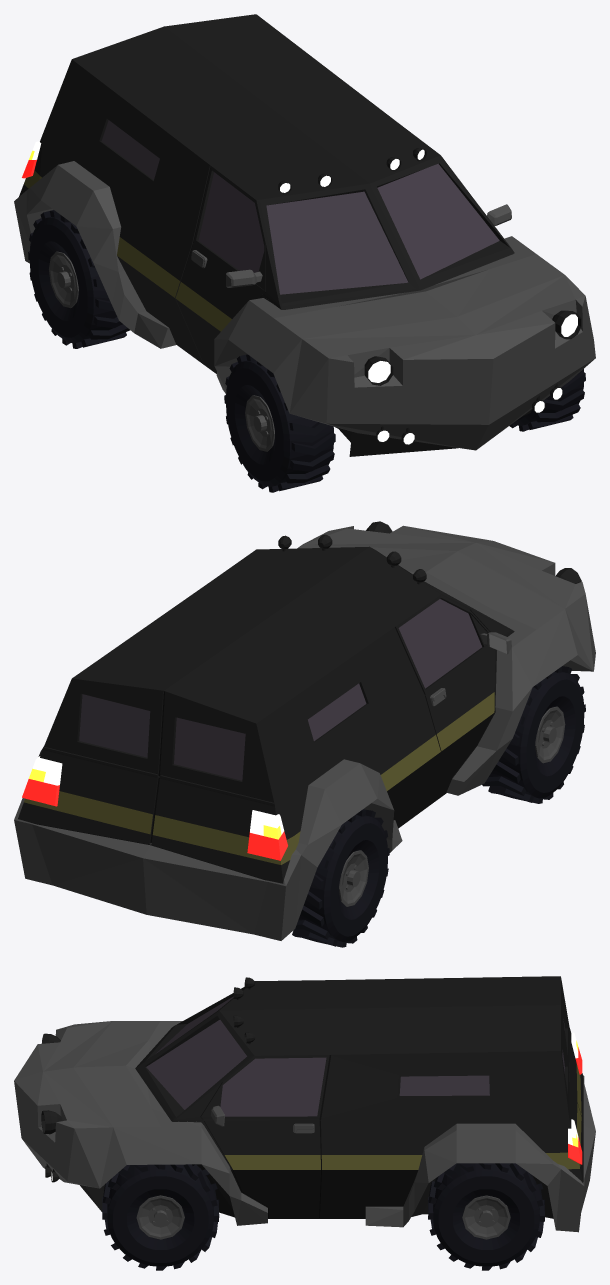
File: lowpolycar.glb
3 views of the same model, one above another, from view 1: azimuth 30°, elevation 25°; view 2: azimuth 150°, elevation 25°; view 3: azimuth 270°, elevation 25° (orthographic). The views are drawn at different scales.
Parts seen in each view (by area): view 1: Cube.001, Cube.005, neumatico, neumatico.001, neumatico.002; view 2: Cube.001, Cube.005, neumatico.001, neumatico; view 3: Cube.001, Cube.005, neumatico.001, neumatico.002.
Part boxes in pixels (left/top/right/bottom): Cube.001: left=19, top=14, right=581, bottom=456; Cube.005: left=14, top=161, right=595, bottom=450; neumatico: left=224, top=354, right=335, bottom=492; neumatico.001: left=28, top=210, right=129, bottom=348; neumatico.002: left=509, top=369, right=585, bottom=431; Cube.001: left=18, top=521, right=581, bottom=883; Cube.005: left=14, top=525, right=595, bottom=940; neumatico.001: left=292, top=809, right=389, bottom=947; neumatico: left=482, top=666, right=585, bottom=803; Cube.001: left=41, top=976, right=583, bottom=1218; Cube.005: left=14, top=1021, right=595, bottom=1232; neumatico.001: left=428, top=1163, right=544, bottom=1270; neumatico.002: left=102, top=1164, right=219, bottom=1270.
Size of the model in its own units: 4.27 by 3.39 by 8.52.
